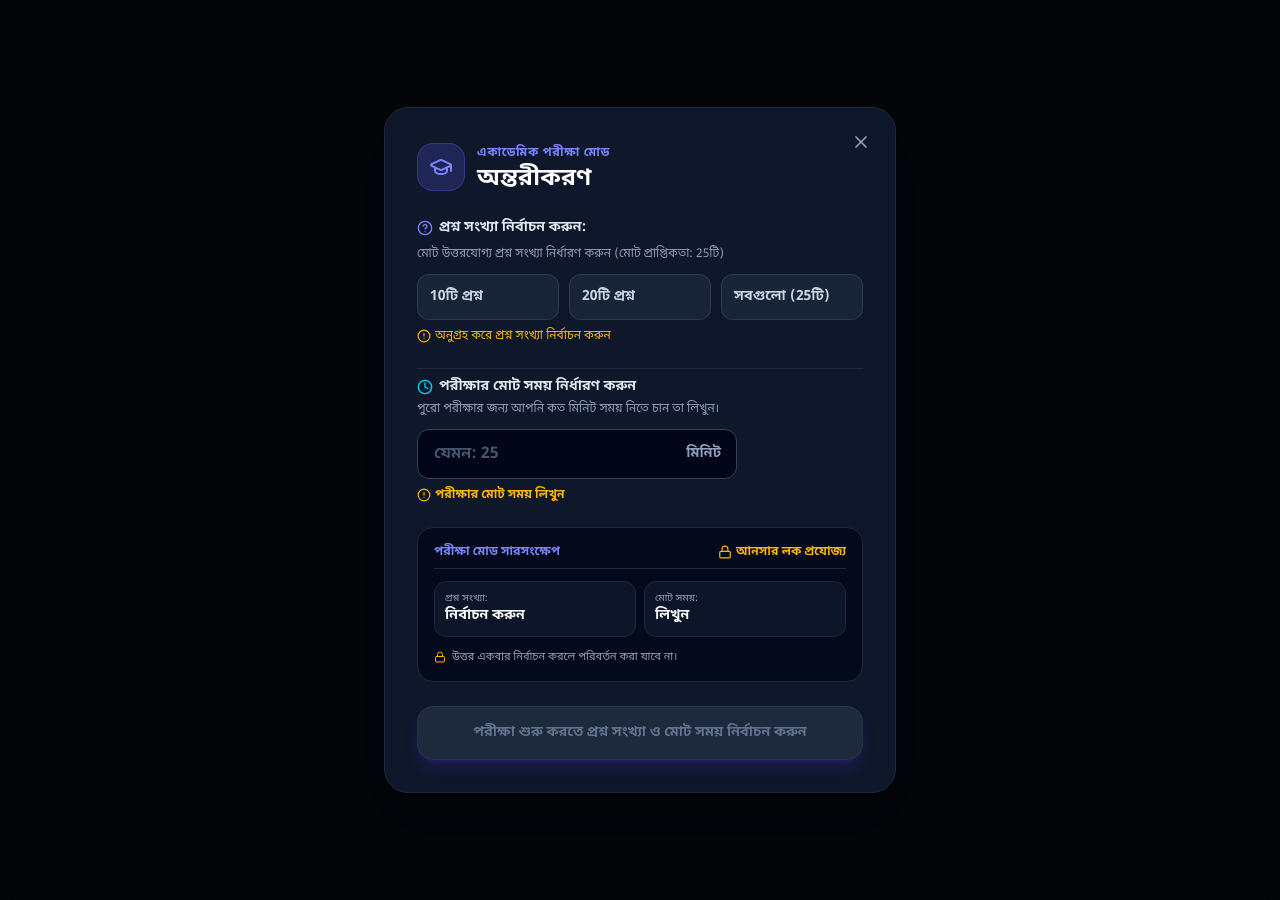
it: Academic Pathway Exam Setup and Exam Mode › 6. start button remains disabled until valid time and question count are selected
Expected: the button "পরীক্ষা শুরু করতে প্রশ্ন সংখ্যা ও মোট সময় নির্বাচন করুন" is disabled, [417, 706, 863, 760]
// Fill valid time only
Type "25" into the number field with placeholder "যেমন: 25" at (577, 454), box [417, 429, 737, 479]
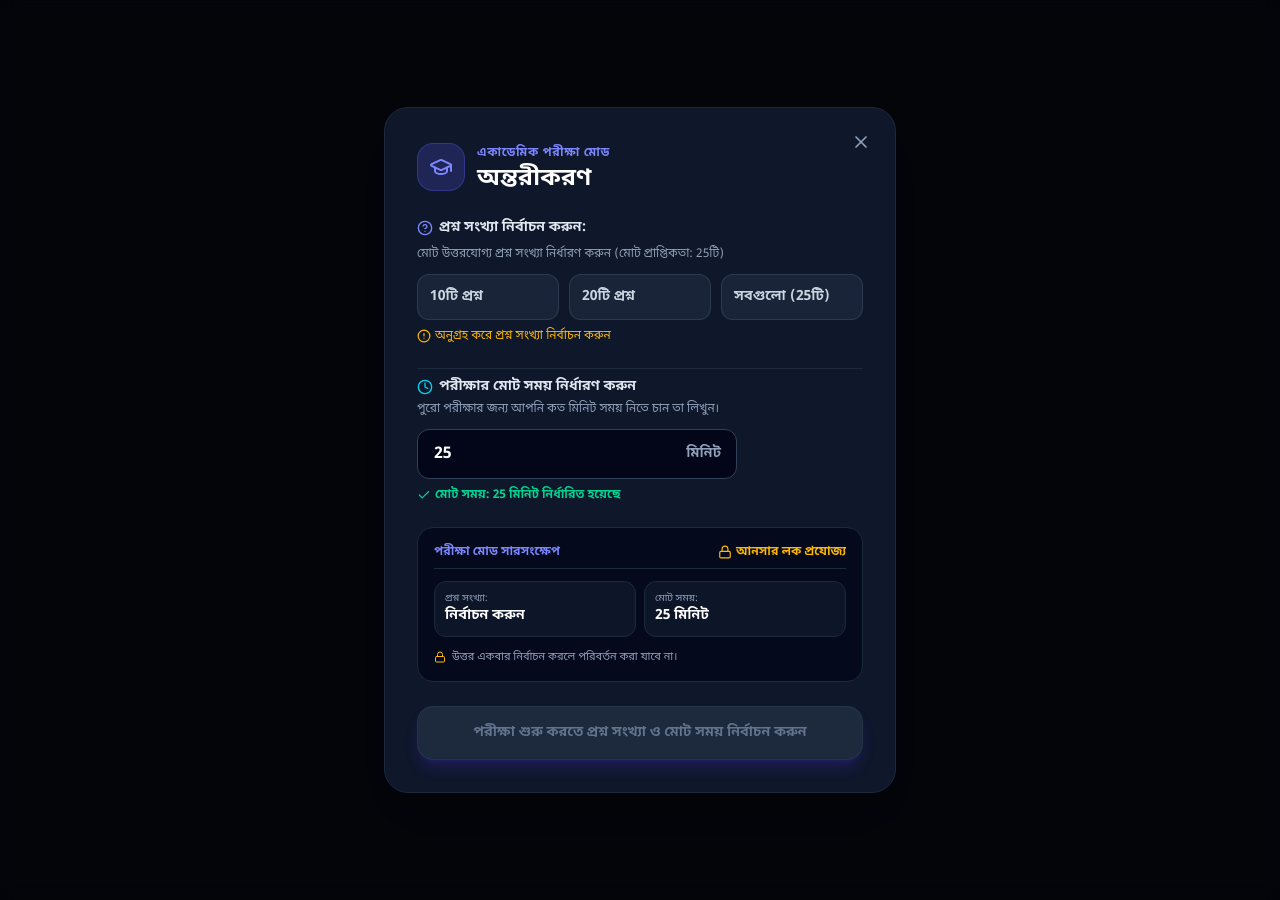
Expected: the button "পরীক্ষা শুরু করতে প্রশ্ন সংখ্যা ও মোট সময় নির্বাচন করুন" is disabled, [417, 706, 863, 760]
// Select question count
Click the button "10টি প্রশ্ন" at (488, 297), box [417, 274, 559, 320]
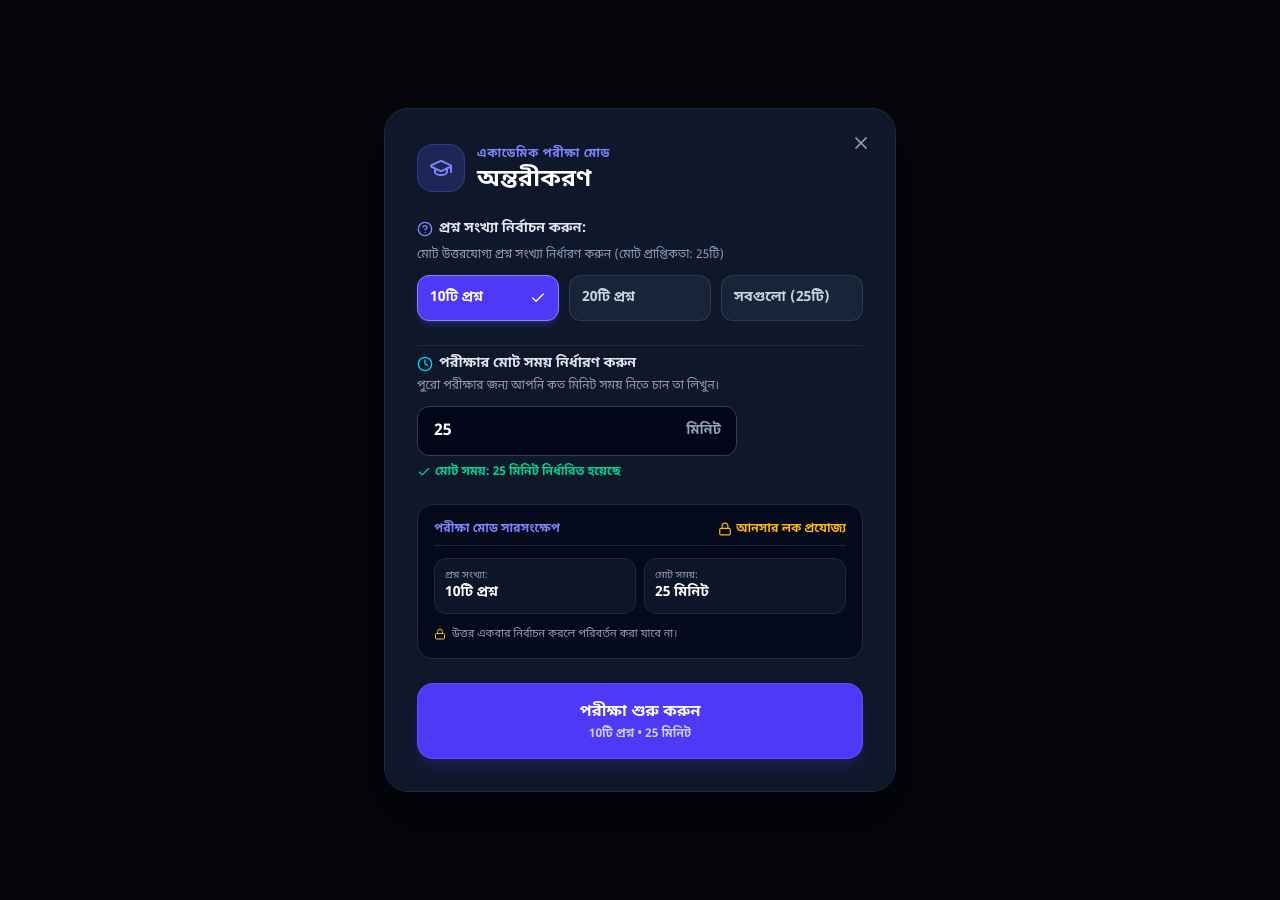
Now the button "পরীক্ষা শুরু করুন 10টি প্রশ্ন • 25 মিনিট" is enabled, box [417, 683, 863, 759]
